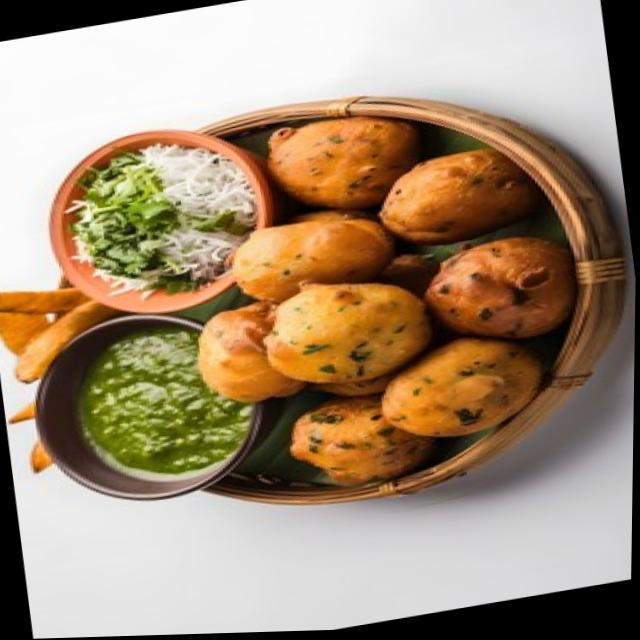BONDA: (194, 119, 569, 484), (380, 153, 532, 244)
GREEN CHUTNEY: (80, 337, 245, 468)
RICE: (72, 148, 250, 290)
